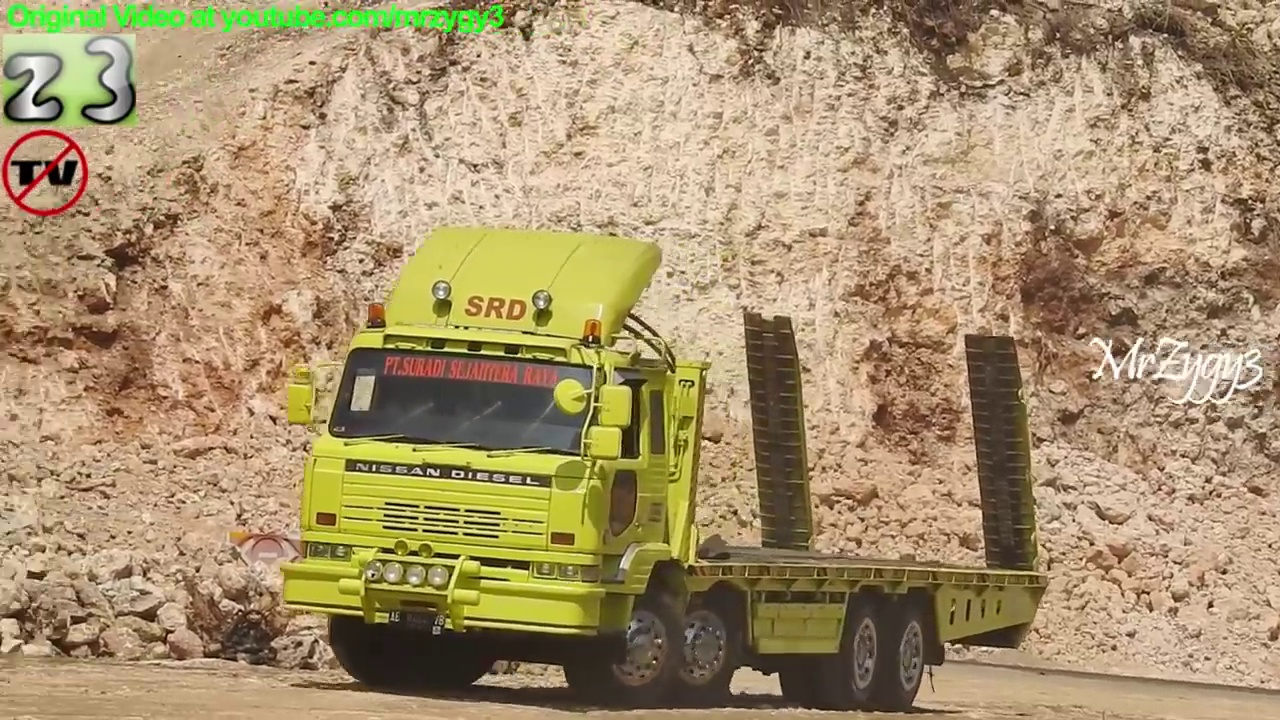truck: (274, 220, 1060, 710)
